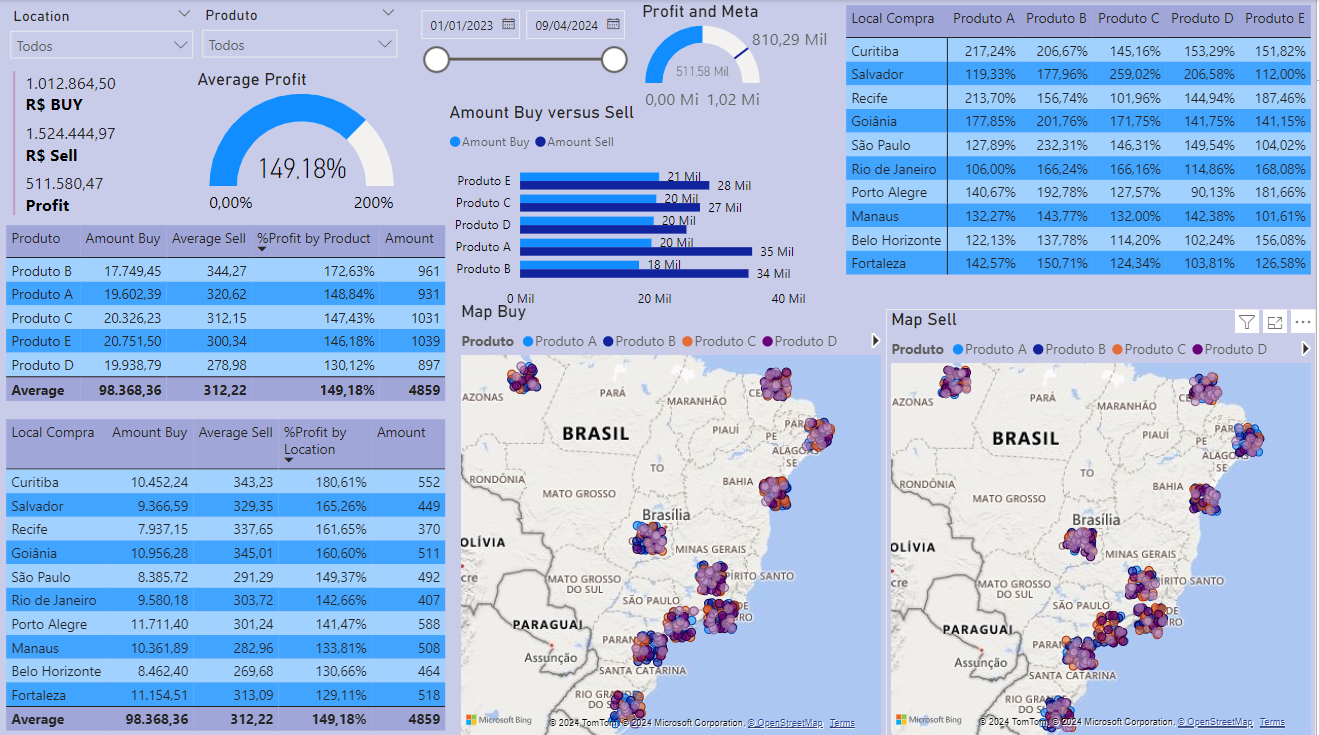

The page's visual inventory and layout, read from the dashboard file:
{"tool":"powerbi","page":{"name":"Profit Page","canvas":[1280,720],"ordinal":0},"visuals":[{"type":"clusteredBarChart","title":"Amount Buy versus Sell","fields":{"Y":["Sum(compras.Preço Compra)","Sum(vendas.Preço Venda)"],"Category":["Product.Produto"]},"box":[443.5,0,374.5,275.3],"z":0},{"type":"tableEx","fields":{"Values":["Product.Produto","Sum(compras.Preço Compra)","Avg(vendas.Preço Venda)","TabelaDatas.%LPP","Sum(compras.Quantidade)"]},"box":[0,214,443.5,188.7],"z":1},{"type":"map","title":"Map Sell","fields":{"X":["compras.Longitude"],"Y":["compras.Latitude"],"Series":["Product.Produto"]},"box":[861.8,275.3,418.2,444.5],"z":2},{"type":"slicer","fields":{"Values":["Location.Local Compra"]},"box":[0,1.9,226.6,65.2],"z":3},{"type":"slicer","fields":{"Values":["Product.Produto"]},"box":[226.6,0,210.1,67.1],"z":4},{"type":"map","title":"Map Buy","fields":{"Series":["Product.Produto"],"Y":["vendas.Latitude"],"X":["vendas.Longitude"]},"box":[443.5,275.3,418.2,444.5],"z":5},{"type":"tableEx","fields":{"Values":["Location.Local Compra","Sum(compras.Preço Compra)","Avg(vendas.Preço Venda)","TabelaDatas.%LPP","Sum(compras.Quantidade)"]},"box":[0,402.7,443.5,317.1],"z":6},{"type":"pivotTable","fields":{"Rows":["Location.Local Compra"],"Values":["TabelaDatas.%LPP"],"Columns":["Product.Produto"]},"box":[818,0,462,275.3],"z":7},{"type":"gauge","title":"Average Profit ","fields":{"Y":["TabelaDatas.%LPP"],"MaxValue":["compras.Best"]},"box":[226.6,67.1,213,149.8],"z":8},{"type":"multiRowCard","fields":{"Values":["Location.Total_Compras","Location.Total_Vendas","Location.Lucro"]},"box":[7.8,64.2,211.1,149.8],"z":9}]}

Visuals, with their boxes in screenshot pixels (x1, y1, x2, y2), scaled from the page's 1280x720 canvas onto the 1319x735 screenshot:
"Amount Buy versus Sell" clusteredBarChart: [left=457, top=0, right=843, bottom=281]
tableEx - Product.Produto x Sum(compras.Preço Compra): [left=0, top=218, right=457, bottom=411]
"Map Sell" map: [left=888, top=281, right=1318, bottom=734]
slicer - Location.Local Compra: [left=0, top=2, right=234, bottom=68]
slicer - Product.Produto: [left=234, top=0, right=450, bottom=68]
"Map Buy" map: [left=457, top=281, right=888, bottom=734]
tableEx - Location.Local Compra x Sum(compras.Preço Compra): [left=0, top=411, right=457, bottom=734]
pivotTable - Location.Local Compra x TabelaDatas.%LPP: [left=843, top=0, right=1318, bottom=281]
"Average Profit " gauge: [left=234, top=68, right=453, bottom=221]
multiRowCard - Location.Total_Compras x Location.Total_Vendas: [left=8, top=66, right=226, bottom=218]
